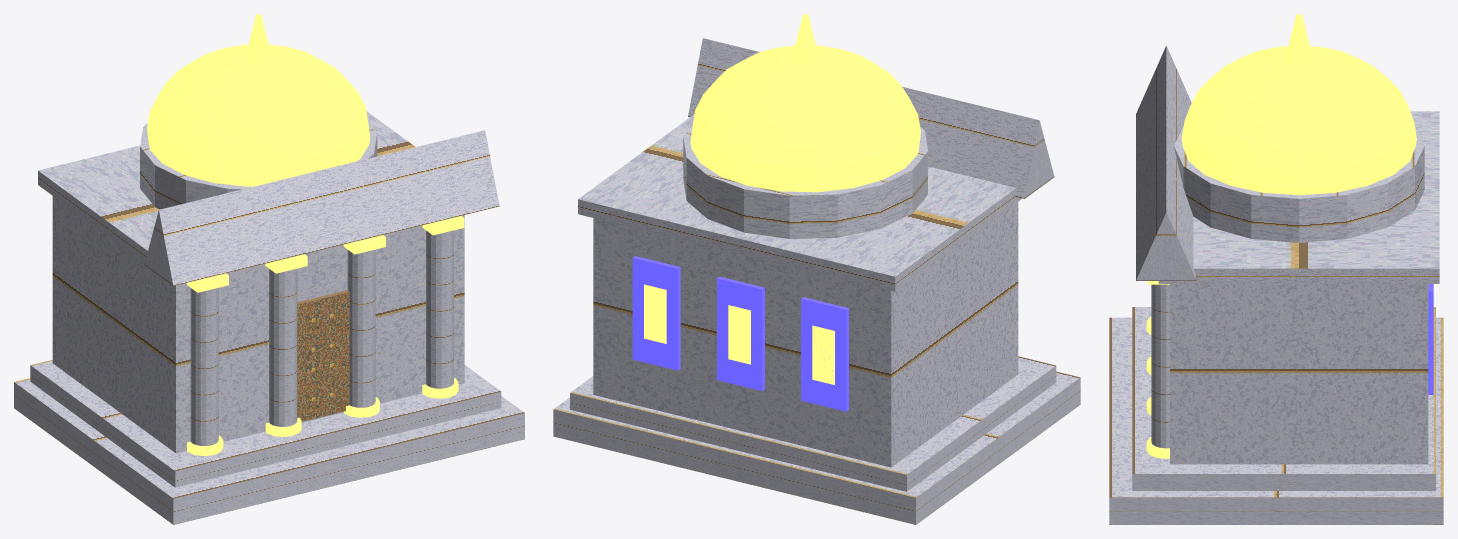
File: gran_archivo.glb
3 views of the same model, side by side, from view 1: azimuth 30°, elevation 25°; view 2: azimuth 150°, elevation 25°; view 3: azimuth 270°, elevation 25° (orthographic). The views are drawn at different scales.
Parts seen in each view (by area): view 1: Cube.002, Archivo_Fronton, Sphere, Cube, Cube.001, Cube.003, Cube.008, Cylinder, Cylinder.002, Cylinder.006, Cylinder.004, Cylinder.008 (+1 smaller); view 2: Cube.002, Sphere, Cube.003, Cube, Cube.001, Cylinder.008, Archivo_Fronton, Cube.013, Cube.009, Cube.011, Cube.012, Cube.014 (+2 smaller); view 3: Cube.002, Sphere, Cube, Cube.003, Cylinder.008, Cube.001, Archivo_Fronton, Cylinder.006, Cone, Cube.013.
Part boxes in pixels (<box>): Cube.002: <box>52,196,464,453</box>; Archivo_Fronton: <box>144,130,499,285</box>; Sphere: <box>147,44,370,186</box>; Cube: <box>14,378,524,524</box>; Cube.001: <box>30,360,501,487</box>; Cube.003: <box>38,111,415,262</box>; Cube.008: <box>297,290,349,421</box>; Cylinder: <box>190,288,218,445</box>; Cylinder.002: <box>269,268,297,426</box>; Cylinder.006: <box>426,230,453,388</box>; Cylinder.004: <box>347,249,375,407</box>; Cylinder.008: <box>140,123,377,209</box>; Cube.002: <box>593,202,1018,467</box>; Sphere: <box>690,45,920,192</box>; Cube.003: <box>578,114,1022,291</box>; Cube: <box>553,371,1080,524</box>; Cube.001: <box>570,356,1056,491</box>; Cylinder.008: <box>683,126,927,238</box>; Archivo_Fronton: <box>688,38,1054,198</box>; Cube.013: <box>632,256,680,370</box>; Cube.009: <box>801,297,848,411</box>; Cube.011: <box>717,276,764,390</box>; Cube.012: <box>728,305,750,364</box>; Cube.014: <box>644,284,666,343</box>; Cube.002: <box>1170,284,1428,464</box>; Sphere: <box>1181,46,1416,195</box>; Cube: <box>1109,317,1443,524</box>; Cube.003: <box>1158,111,1439,283</box>; Cylinder.008: <box>1174,126,1424,242</box>; Cube.001: <box>1132,307,1435,490</box>; Archivo_Fronton: <box>1136,45,1196,280</box>; Cylinder.006: <box>1151,284,1169,448</box>; Cone: <box>1285,14,1313,65</box>; Cube.013: <box>1428,284,1433,394</box>.
Bounding box in the file's own units: 5.6 × 6.1 × 4.4.
4 materials, 2 textured.
